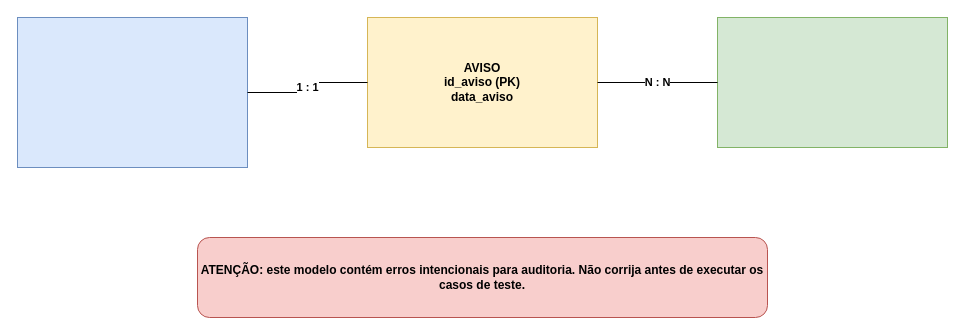
The diagram is 965 pixels wide and 335 high, and some of its shapes have lost their labels. The centre of each missing label's shape, as x and y in pixels:
"CATEGORIA id_categoria (PK) nome_categoria" goes at (832,82).
"USUARIO id_usuario (PK) nome email titulo_aviso" goes at (132,92).
